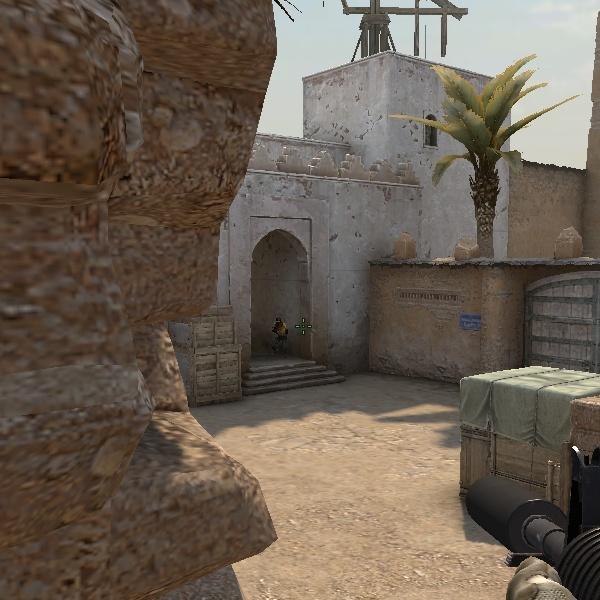t_body: (271, 317, 290, 357)
t_head: (275, 317, 283, 328)
